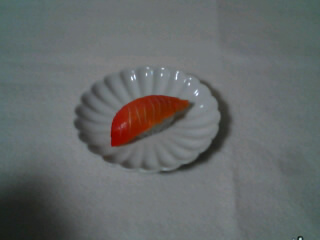002_classes: (112, 93, 195, 148)
